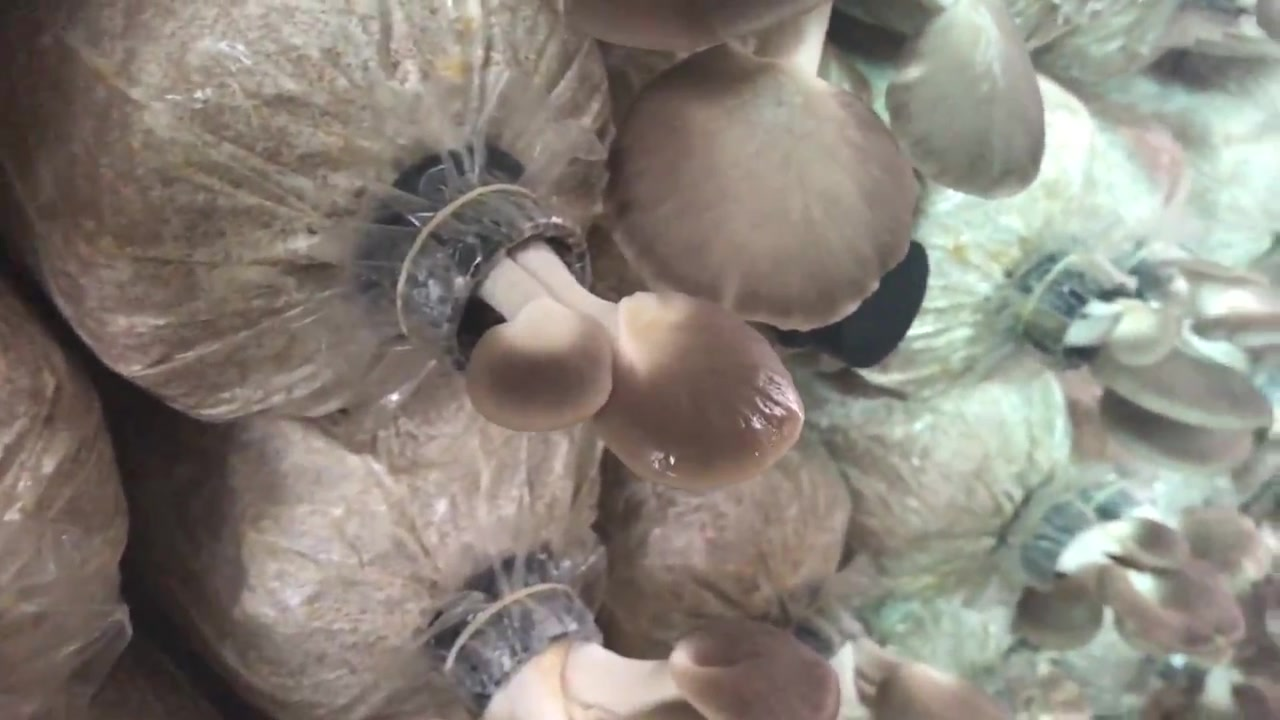nam: (562, 1, 1055, 334), (386, 173, 807, 496), (435, 563, 841, 720), (1010, 492, 1249, 664), (769, 593, 1006, 720), (1020, 250, 1174, 384), (1085, 345, 1273, 435), (1089, 482, 1184, 545)
